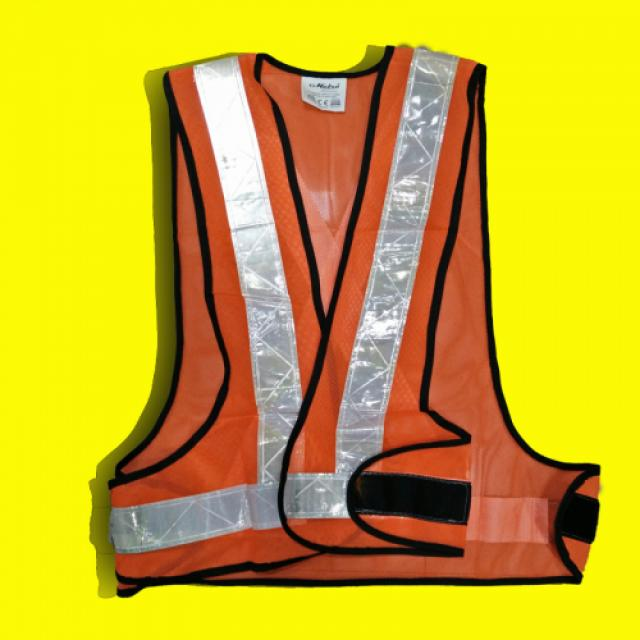safety_helmet: (102, 53, 602, 601)
